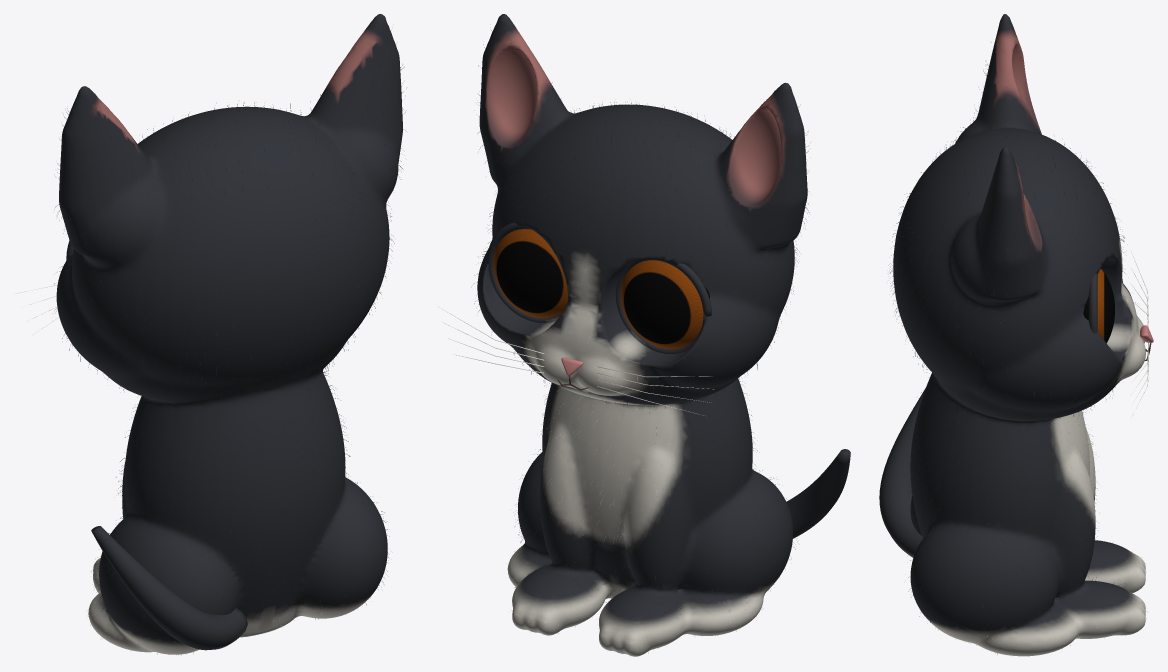
Rendered from mallow_driver.glb.
3 views of the same model, side by side, from view 1: azimuth 30°, elevation 25°; view 2: azimuth 150°, elevation 25°; view 3: azimuth 270°, elevation 25° (orthographic). The views are drawn at different scales.
Parts seen in each view (by area): view 1: Continuous feline anatomy, Curled tail, Groomed short fur; view 2: Continuous feline anatomy, Curved inset eye.001, Curved inset eye, Curled tail, Soft anatomical eyelid.001, Groomed short fur, Soft anatomical eyelid; view 3: Continuous feline anatomy, Curled tail, Groomed short fur, Curved inset eye, Soft anatomical eyelid.
Part boxes in pixels (box(x1,y1,x2,y2)): Continuous feline anatomy: box(56, 14, 402, 654); Curled tail: box(91, 526, 247, 650); Groomed short fur: box(54, 41, 406, 655); Continuous feline anatomy: box(477, 14, 807, 656); Curved inset eye.001: box(620, 260, 709, 349); Curved inset eye: box(493, 229, 567, 317); Curled tail: box(786, 449, 850, 538); Soft anatomical eyelid.001: box(615, 259, 711, 353); Groomed short fur: box(474, 30, 809, 655); Soft anatomical eyelid: box(486, 222, 561, 322); Continuous feline anatomy: box(893, 14, 1145, 656); Curled tail: box(879, 388, 925, 557); Groomed short fur: box(890, 42, 1147, 656); Curved inset eye: box(1083, 269, 1114, 342); Soft anatomical eyelid: box(1089, 273, 1097, 333).
Size of the model in its own units: 0.9772 by 1.54 by 0.7154.
Materials: 6 (2 with a texture image).
